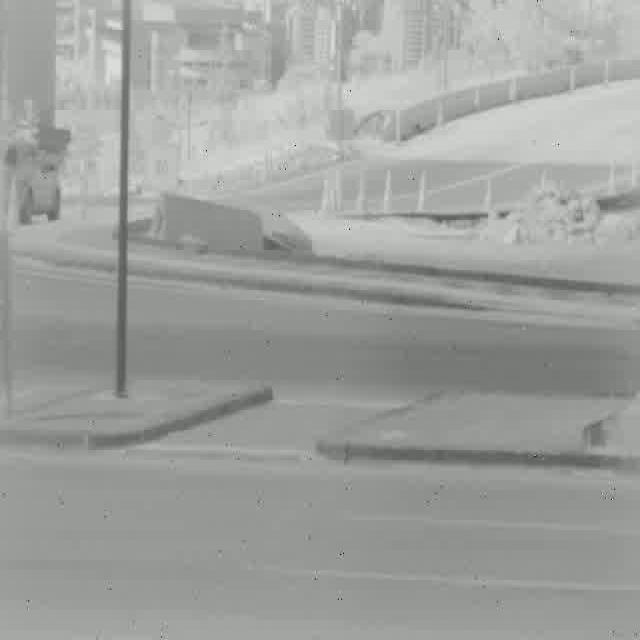Car: (0, 148, 60, 222)
